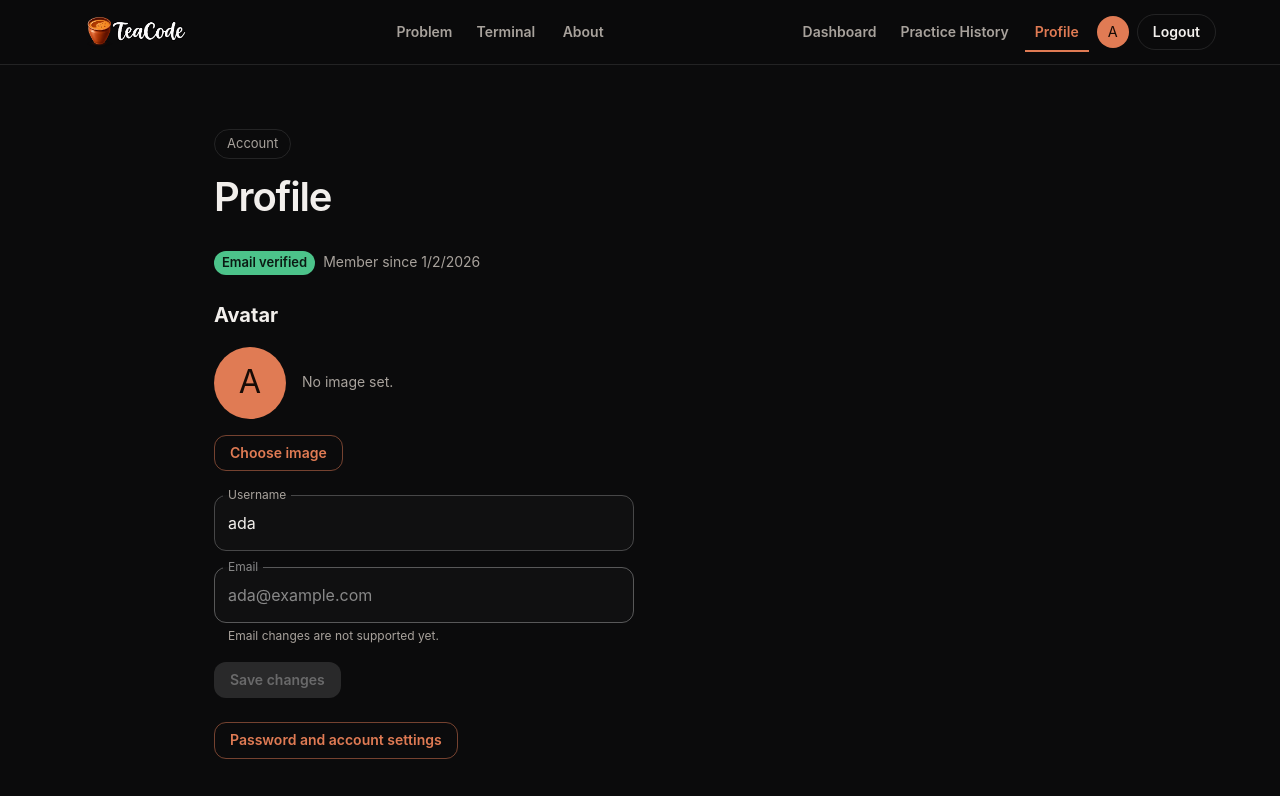
profile › shows account details and saves a changed username
expect the text "Email verified" is shown: met, box [222,254,307,270]
expect the field labelled "Email" is disabled: met, box [214,567,634,623]
Replace the text in the field labelled "Username" with "ada_l": (424, 523) [214,495,634,551]
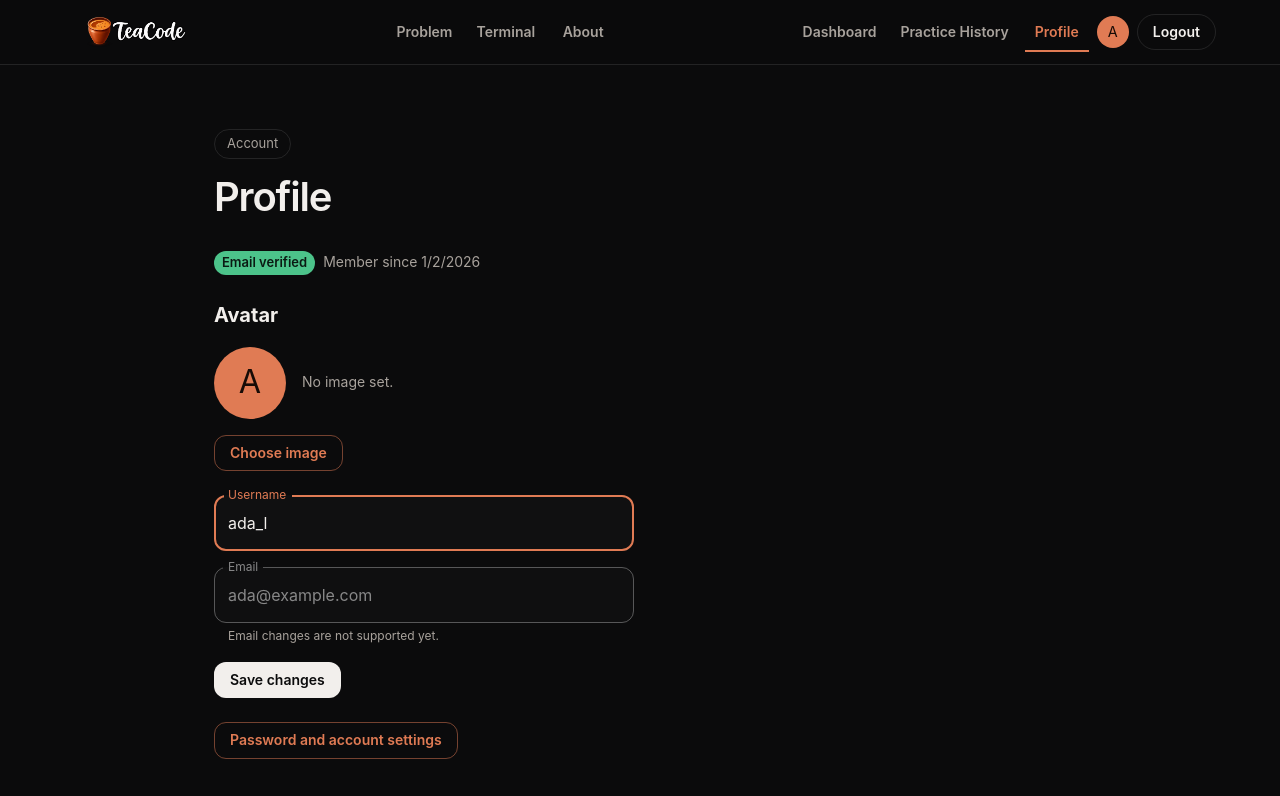
Click the button "Save changes": (277, 680) [214,662,341,698]
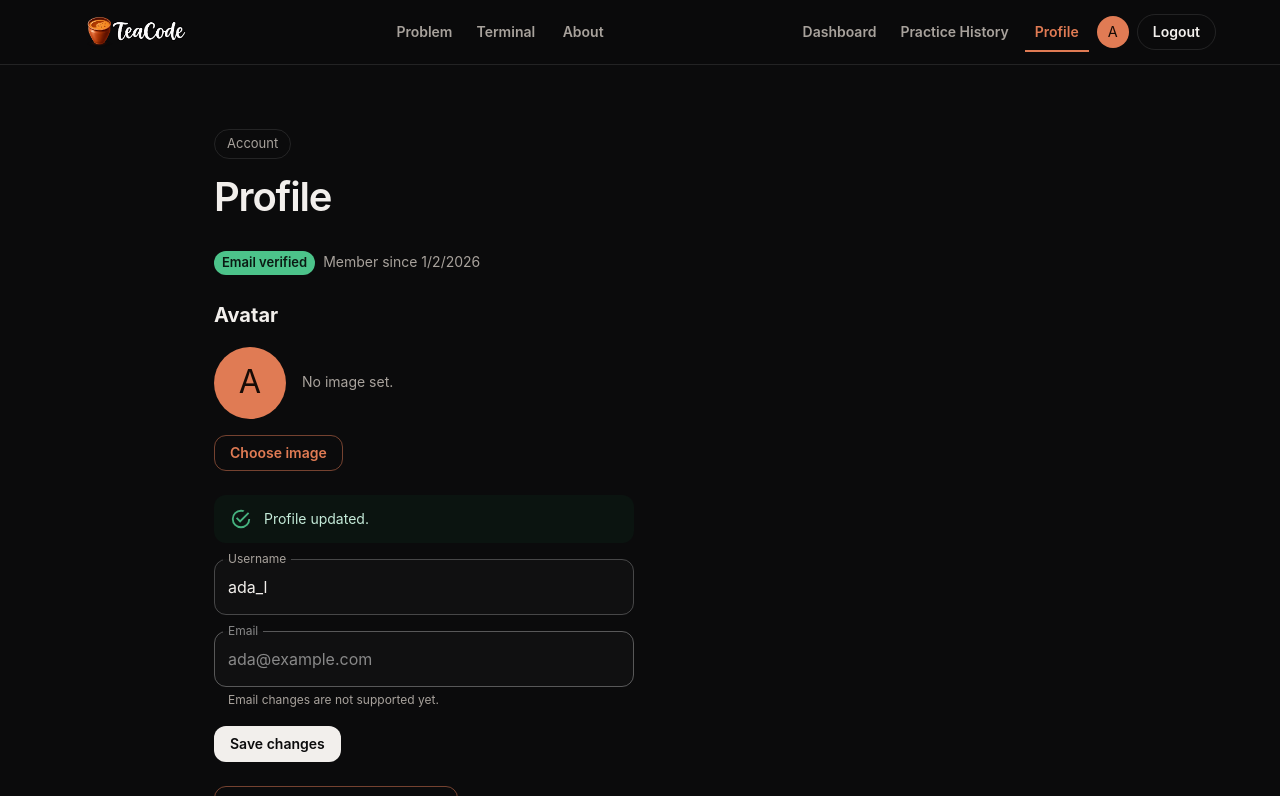
expect the text "Profile updated." is shown: met, box [264,510,369,527]
